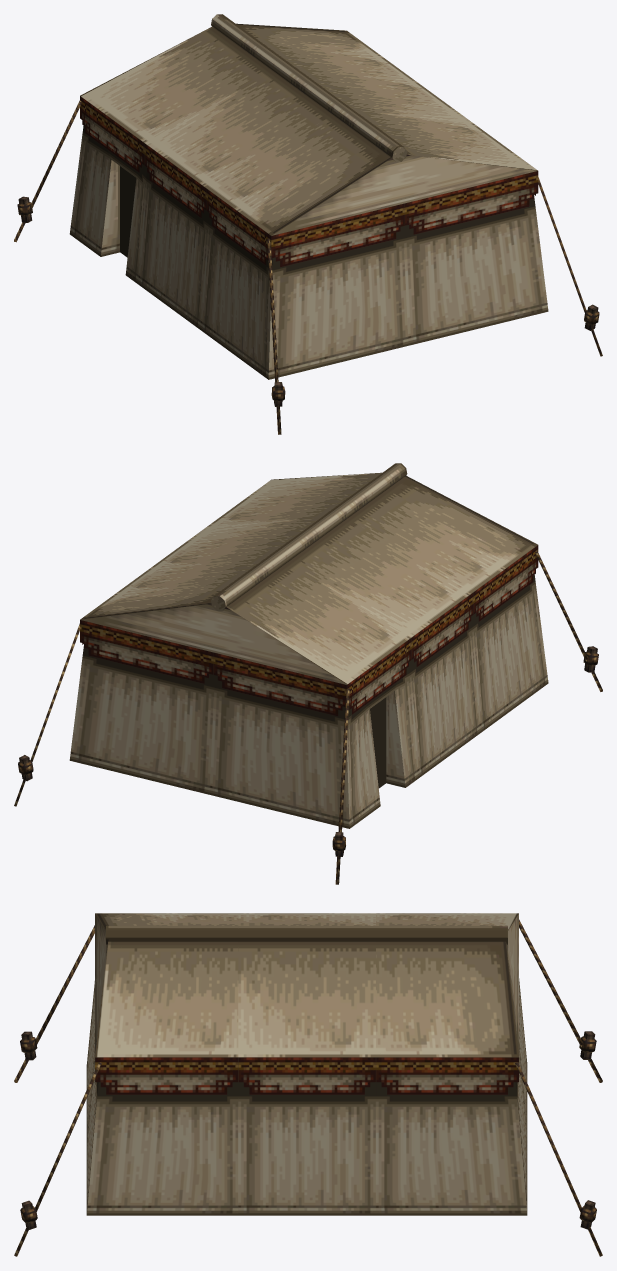
File: EnvBdgMD_Desert_C_Outdoor_Tent_A.FBX
3 renders of one model, top to bottom at view 1: azimuth 30°, elevation 25°; view 2: azimuth 150°, elevation 25°; view 3: azimuth 270°, elevation 25°, orthographic. The views are drawn at different scales.
Parts seen in each view (by area): view 1: EnvBdgMD_Desert_C_Outdoor_Tent_A; view 2: EnvBdgMD_Desert_C_Outdoor_Tent_A; view 3: EnvBdgMD_Desert_C_Outdoor_Tent_A.
Part boxes in pixels (<box>): EnvBdgMD_Desert_C_Outdoor_Tent_A: <box>14,14,602,434</box>; EnvBdgMD_Desert_C_Outdoor_Tent_A: <box>14,463,602,884</box>; EnvBdgMD_Desert_C_Outdoor_Tent_A: <box>14,913,602,1256</box>.
Bounding box in the file's own units: 760 × 487 × 1069.
